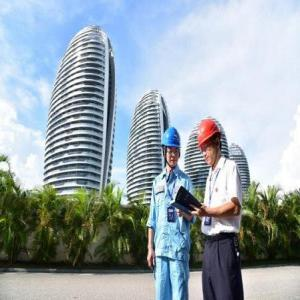blue: (160, 127, 185, 171)
red: (196, 119, 223, 168)
